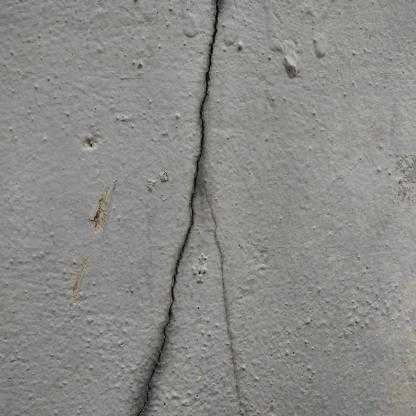crack: (137, 0, 219, 416), (198, 176, 234, 366)
